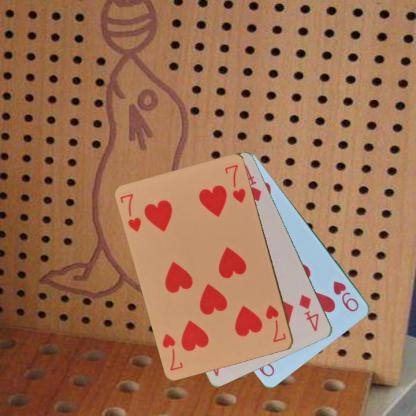4d: (296, 292, 321, 333)
7h: (118, 191, 143, 234), (263, 302, 288, 344)
9h: (330, 278, 360, 313)
